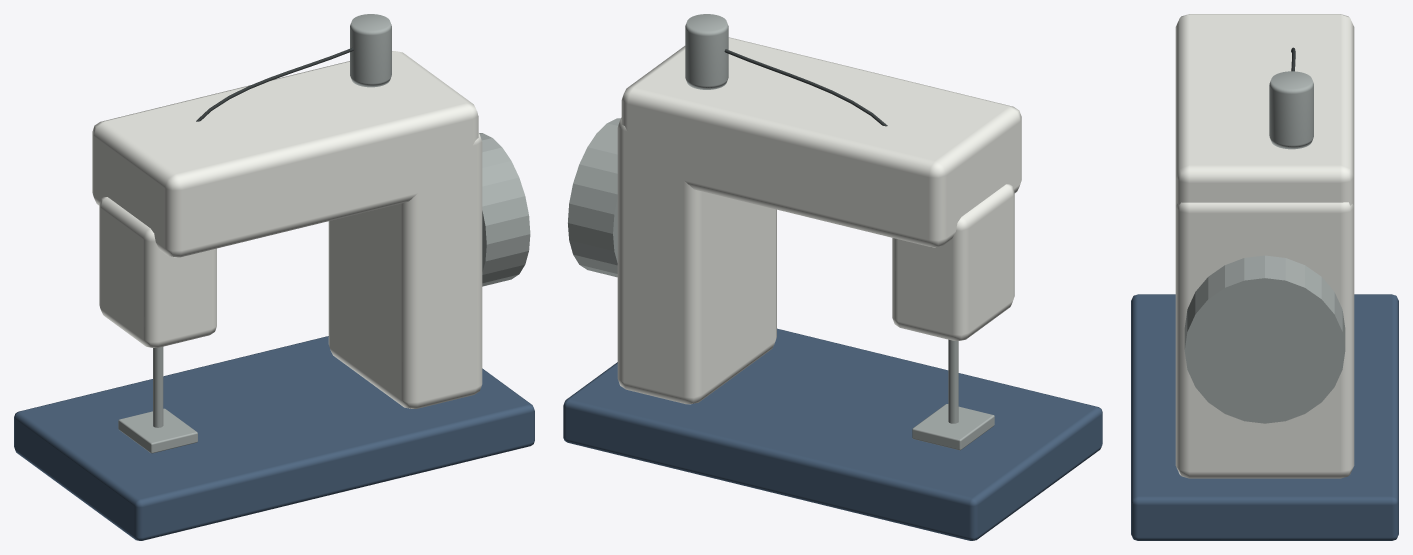
The model's file is spacecraft-parachute-packing-hall-spacecraft-parachute-691a7a4c__32103.glb.
3 renders of one model, left to right at view 1: azimuth 30°, elevation 25°; view 2: azimuth 150°, elevation 25°; view 3: azimuth 270°, elevation 25°, orthographic. The views are drawn at different scales.
Parts seen in each view (by area): view 1: spacecraft-parachute-packing-hall-canopy-repair-sewing-machi (×4); view 2: spacecraft-parachute-packing-hall-canopy-repair-sewing-machi (×4); view 3: spacecraft-parachute-packing-hall-canopy-repair-sewing-machi (×3).
Part boxes in pixels (<box>): spacecraft-parachute-packing-hall-canopy-repair-sewing-machi (×4): <box>14,14,534,540</box>; spacecraft-parachute-packing-hall-canopy-repair-sewing-machi (×4): <box>563,14,1102,540</box>; spacecraft-parachute-packing-hall-canopy-repair-sewing-machi (×3): <box>1131,14,1398,540</box>.
Bounding box in the file's own units: 0.575 × 0.515 × 0.3.
